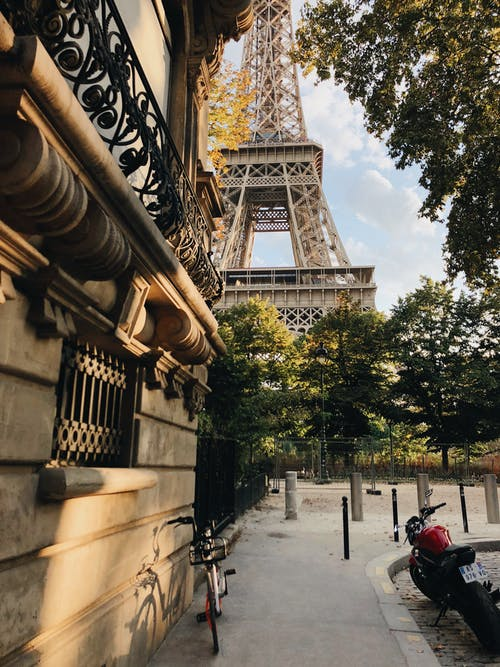eiffel tower: (222, 1, 379, 330)
